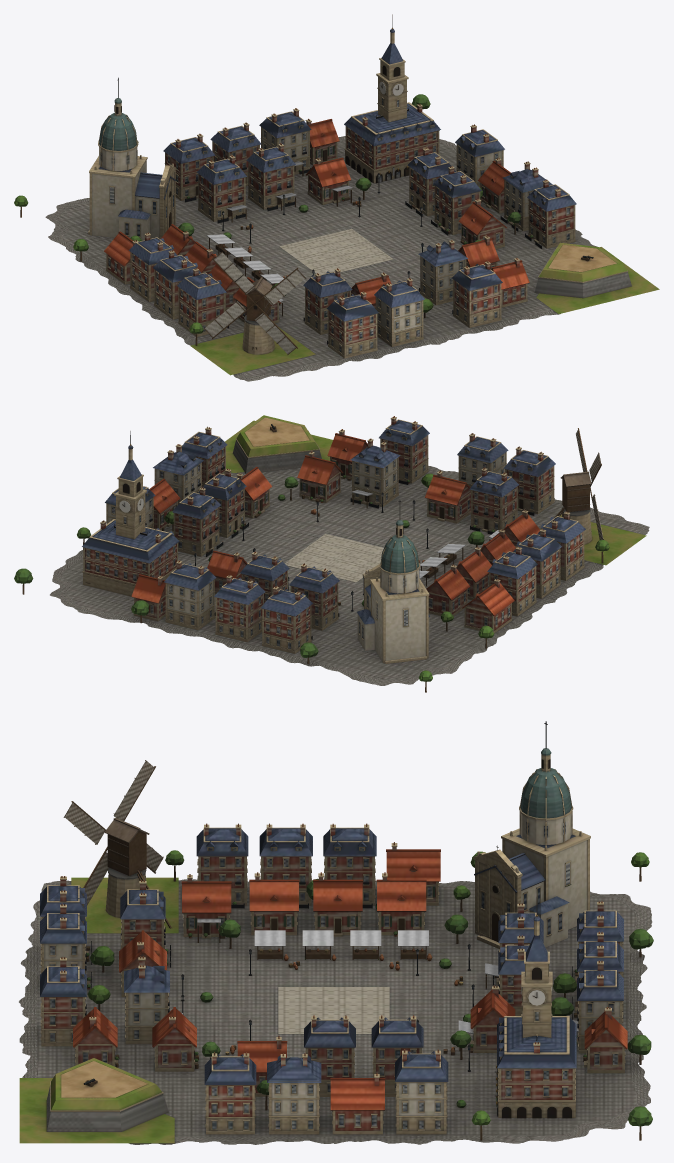
Rendered from gunpowder-town-big-b-europe.glb.
The picture shows the model from 3 angles, top to bottom: view 1: azimuth 30°, elevation 25°; view 2: azimuth 150°, elevation 25°; view 3: azimuth 270°, elevation 25°; orthographic projection. The views are drawn at different scales.
Visible parts, largest first — view 1: LOD0; view 2: LOD0; view 3: LOD0.
Boxes of the visible parts, x1,y1,x2,y2 form: LOD0: (14,14,659,381); LOD0: (14,415,649,692); LOD0: (19,721,653,1144).
Size of what is drawn, in the model's own units: 8.05 by 2.8 by 8.12.
Materials: 3 (3 with a texture image).
